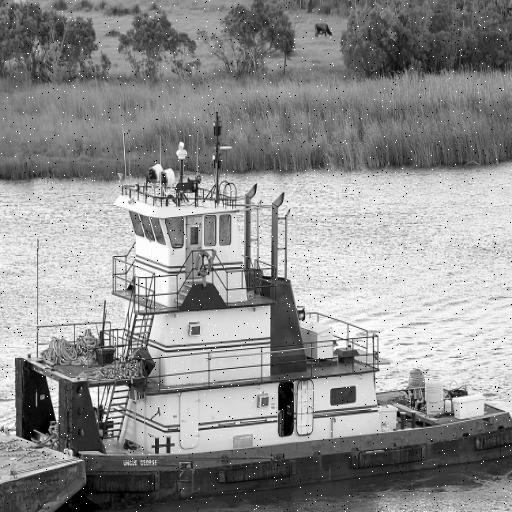tugboat: (5, 108, 512, 501)
